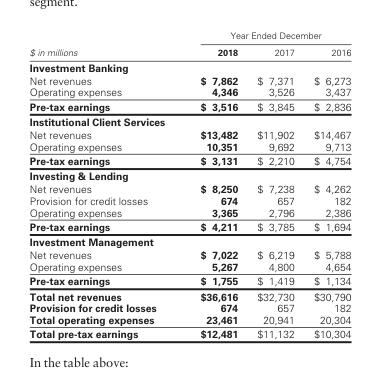table: (28, 29, 350, 339)
table column: (28, 29, 177, 339), (177, 29, 246, 339), (246, 29, 303, 339), (303, 29, 350, 339)
table column header: (28, 29, 350, 59)
table projected row header: (28, 233, 350, 248), (28, 59, 350, 73), (28, 113, 350, 127), (28, 168, 350, 182)
table row: (28, 43, 350, 59), (28, 98, 350, 113), (28, 153, 350, 168), (28, 233, 350, 248), (28, 273, 350, 288), (28, 29, 350, 43), (28, 59, 350, 73), (28, 113, 350, 127), (28, 168, 350, 182), (28, 219, 350, 233), (28, 85, 350, 98), (28, 127, 350, 140), (28, 140, 350, 153), (28, 206, 350, 219), (28, 260, 350, 273), (28, 288, 350, 301), (28, 313, 350, 326), (28, 326, 350, 339), (28, 73, 350, 85), (28, 182, 350, 194), (28, 194, 350, 206), (28, 248, 350, 260), (28, 301, 350, 313)
table spanning cell: (28, 29, 177, 59), (177, 29, 350, 43)
